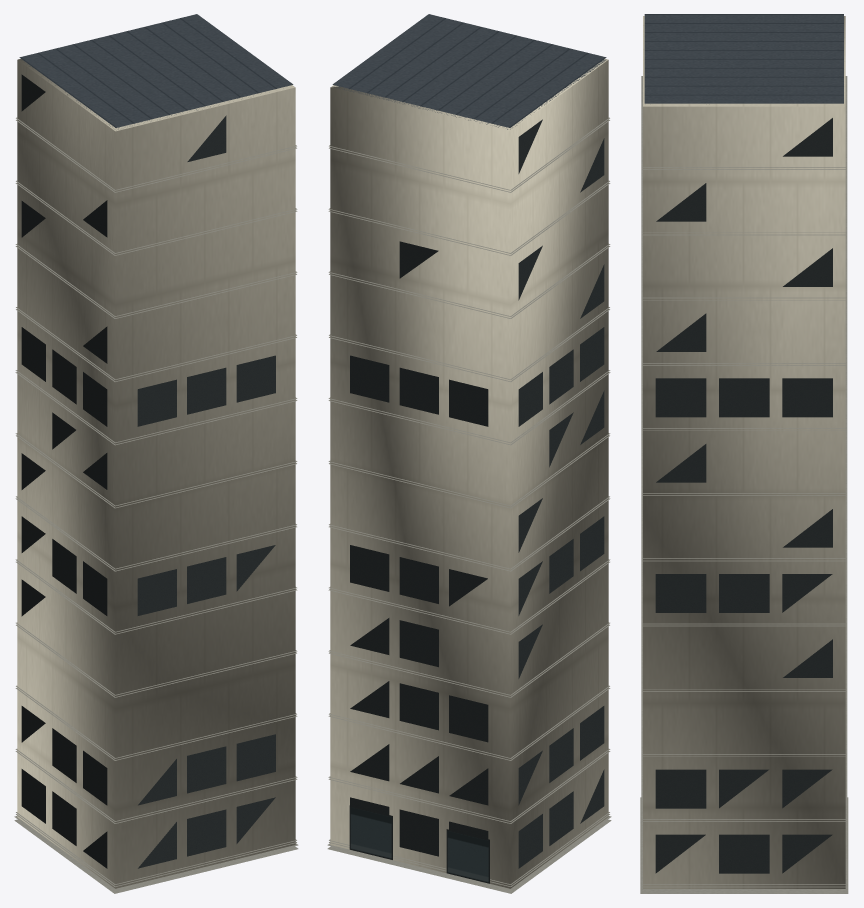
File: office_006.lod2.obj
3 views of the same model, side by side, from view 1: azimuth 30°, elevation 25°; view 2: azimuth 150°, elevation 25°; view 3: azimuth 270°, elevation 25° (orthographic). The views are drawn at different scales.
Parts seen in each view (by area): view 1: office_006; view 2: office_006; view 3: office_006.
Boxes of the visible parts, box(x1,y1,x2,y2) form: office_006: box(14, 14, 298, 893); office_006: box(327, 14, 611, 893); office_006: box(640, 14, 848, 893).
Bounding box in the file's own units: 9.67 × 38.3 × 9.2.
1 material, 1 textured.
